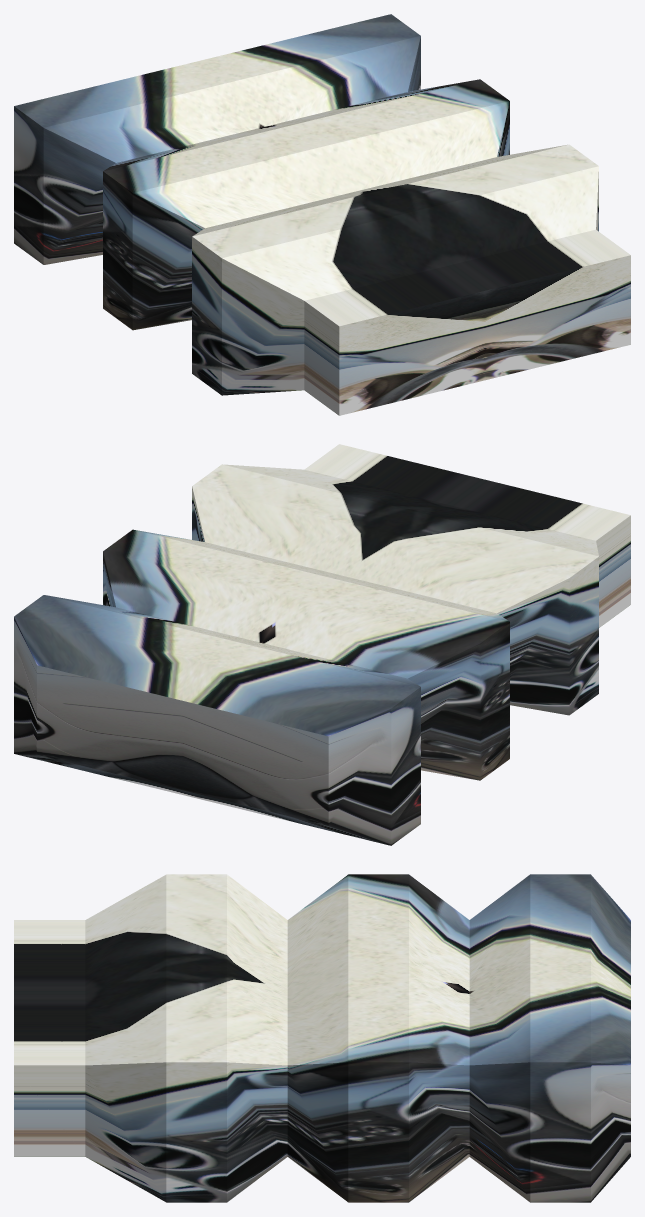
The picture shows the model from 3 angles, top to bottom: view 1: azimuth 30°, elevation 25°; view 2: azimuth 150°, elevation 25°; view 3: azimuth 270°, elevation 25°; orthographic projection. The views are drawn at different scales.
Parts seen in each view (by area): view 1: Body-3.002_Cube.025; view 2: Body-3.002_Cube.025; view 3: Body-3.002_Cube.025.
Part boxes in pixels (x1,y1,x2,y2): Body-3.002_Cube.025: [14, 14, 630, 415]; Body-3.002_Cube.025: [14, 444, 630, 845]; Body-3.002_Cube.025: [14, 874, 630, 1202].
Size of the model in its own units: 9.94 by 3.46 by 13.79.
